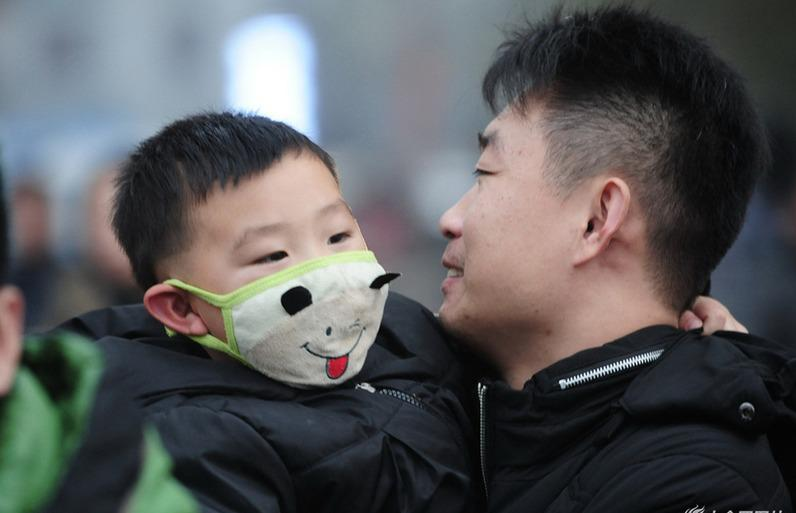NONE: (436, 121, 619, 347)
OK: (198, 194, 385, 381)
